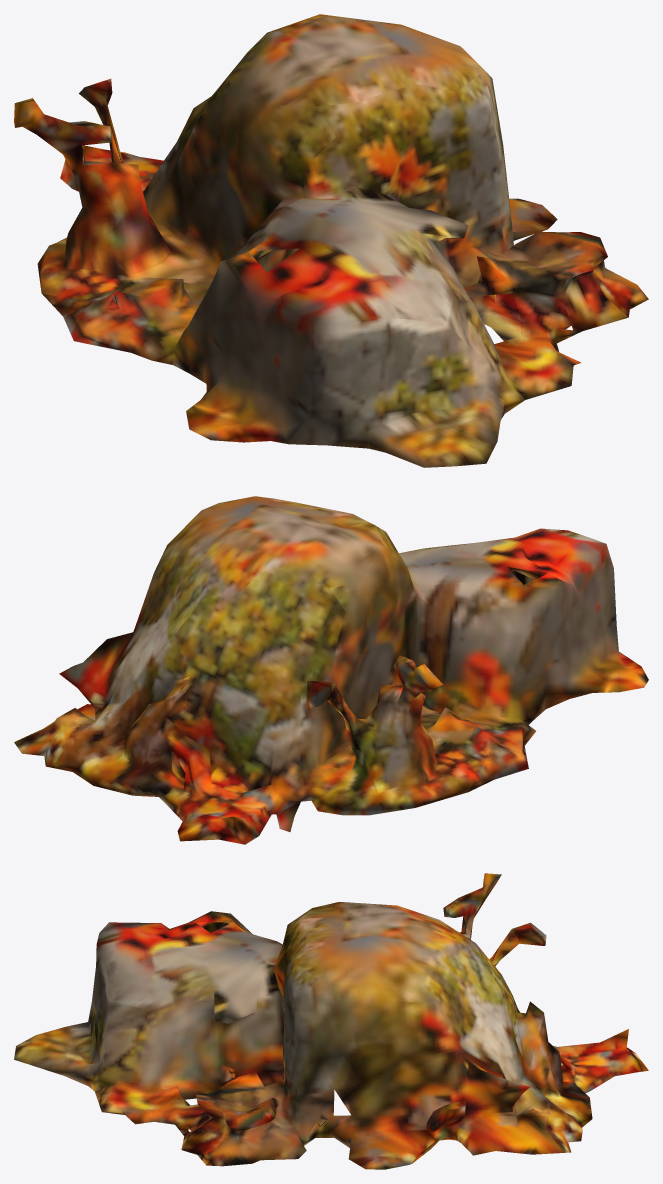
Rendered from FallDecor_FirstRoom_TreeStump.fbx.
3 views of the same model, one above another, from view 1: azimuth 30°, elevation 25°; view 2: azimuth 150°, elevation 25°; view 3: azimuth 270°, elevation 25° (orthographic). The views are drawn at different scales.
Visible parts, largest first — view 1: FallDecor_FirstRoom_TreeStump_Mesh; view 2: FallDecor_FirstRoom_TreeStump_Mesh; view 3: FallDecor_FirstRoom_TreeStump_Mesh.
Part boxes in pixels (x1,y1,x2,y2): FallDecor_FirstRoom_TreeStump_Mesh: (14, 14, 648, 467); FallDecor_FirstRoom_TreeStump_Mesh: (14, 496, 648, 844); FallDecor_FirstRoom_TreeStump_Mesh: (14, 873, 648, 1169).
Size of the model in its own units: 4.15 by 2.11 by 6.
Materials: 1 (1 with a texture image).
